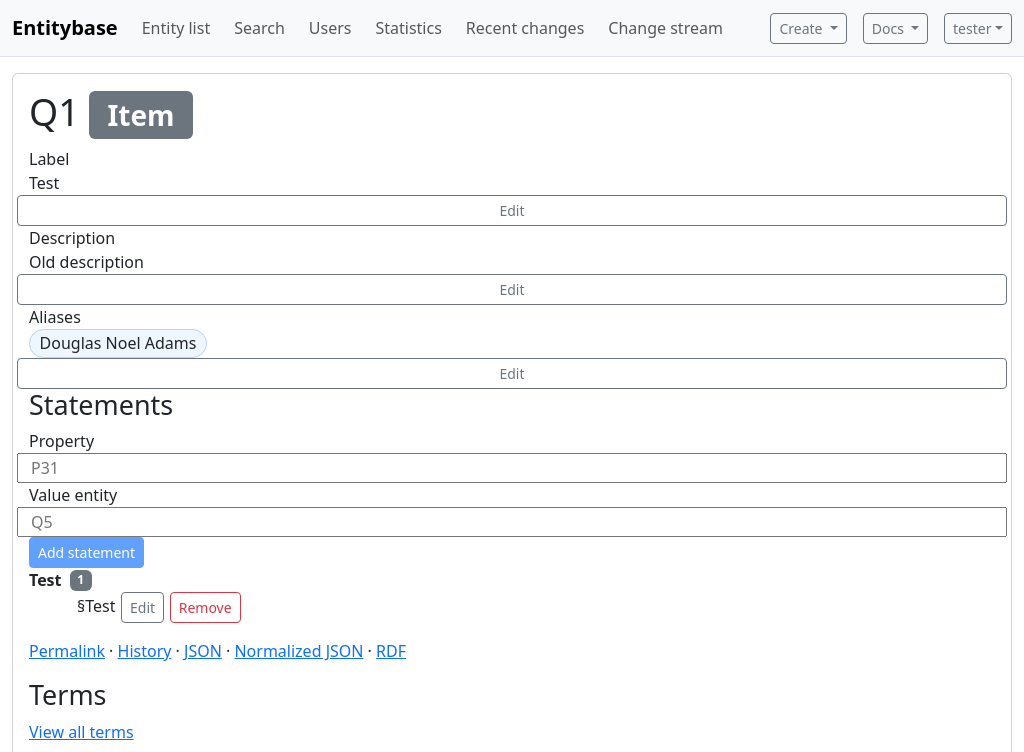
Test case: App › says so when the value is removed but re-adding it fails
Click the button with test id "statement-edit-button".
click(143, 608)  # box left=121, top=592, right=164, bottom=623
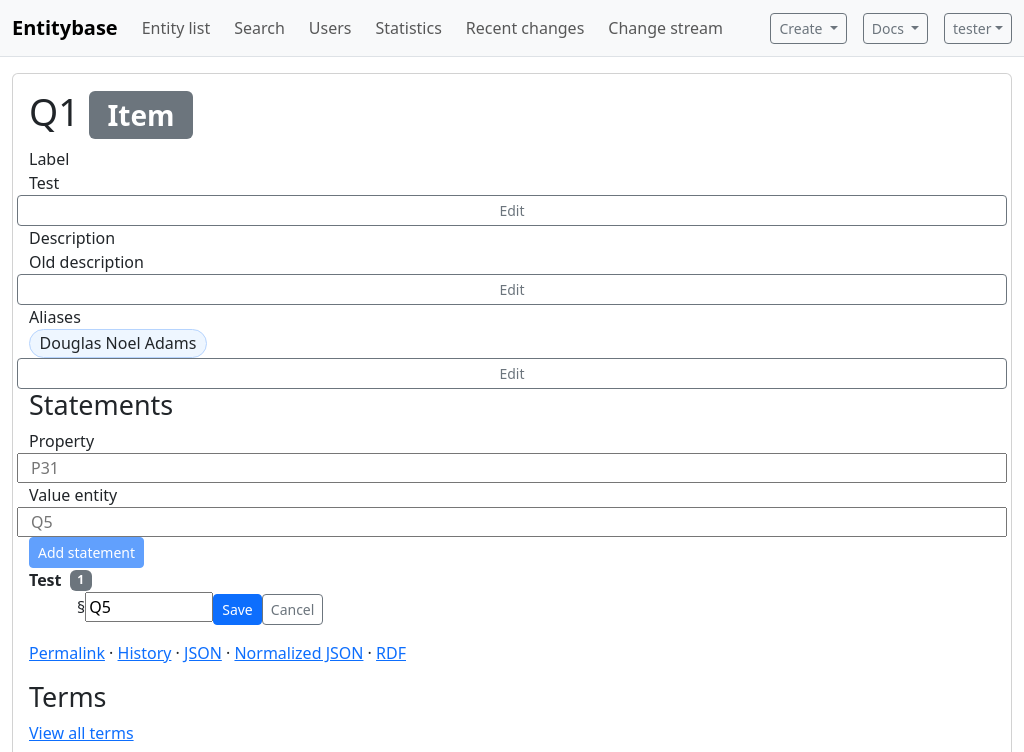
Replace the text in the field with test id "statement-edit-input" with "Q30" at (149, 607), box left=85, top=592, right=213, bottom=622
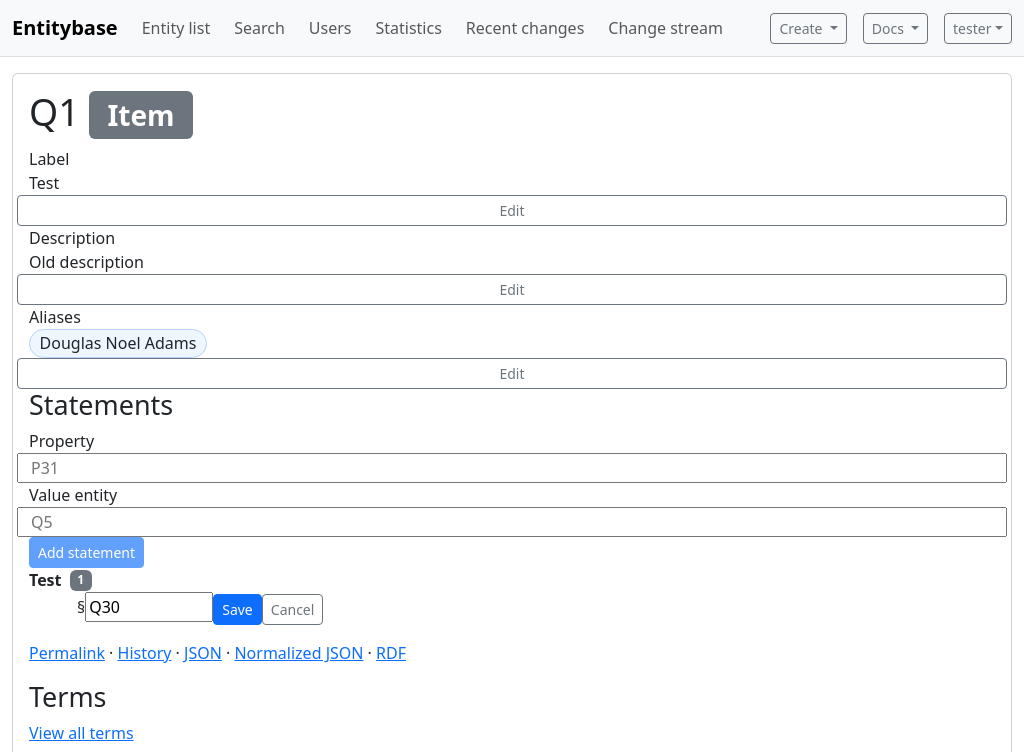
Click the button with test id "statement-save-button".
click(238, 609)  # box left=213, top=594, right=262, bottom=624
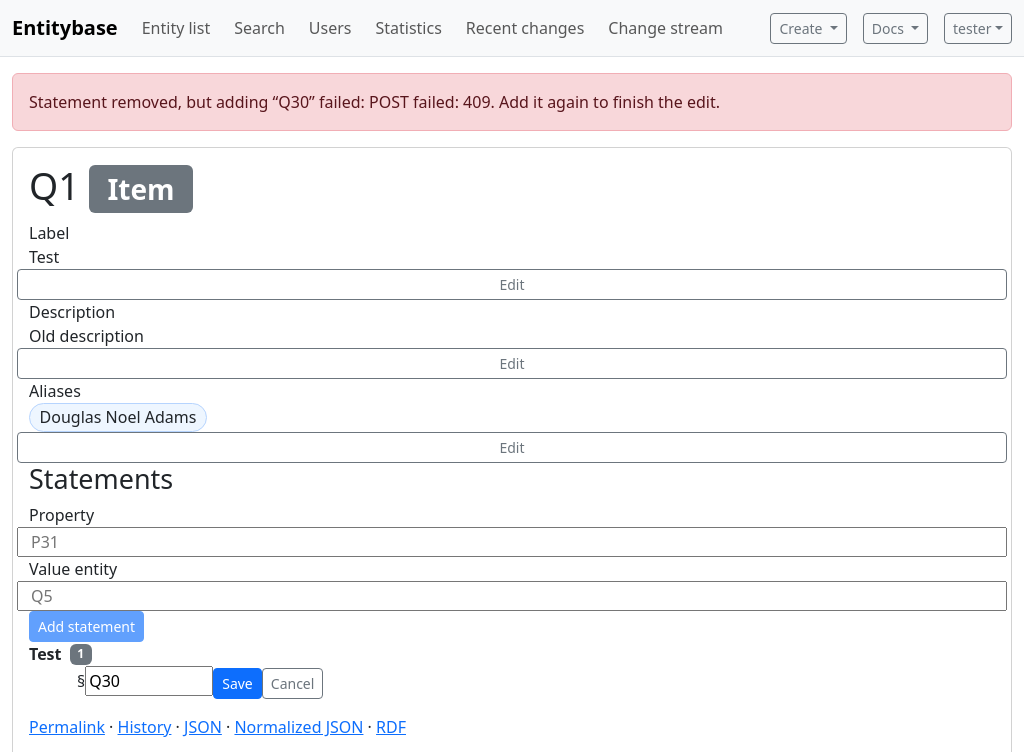
Result: the text with test id "error-banner" shows "Statement removed, but adding" at left=29, top=91, right=720, bottom=113
Result: the text with test id "error-banner" shows "Q30" at left=29, top=91, right=720, bottom=113
